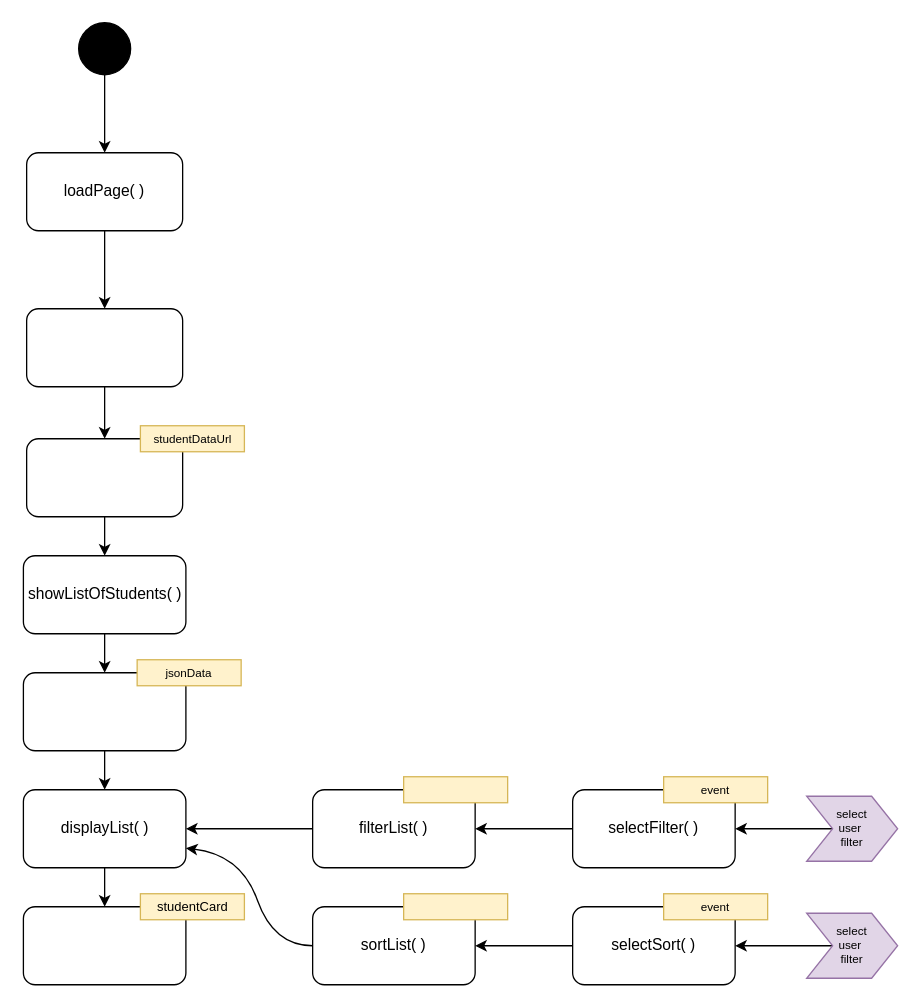
The diagram is 920 pixels wide and 1007 high, and some of its shapes have lost their labels. Each missing label, with the centre of its shape:
"async getData ( )" goes at point (104, 477).
"displayStudent( )" goes at point (104, 945).
"filterBy" goes at point (455, 789).
"loadJSON( )" goes at point (104, 347).
"prepareObjects( )" goes at point (104, 711).
"sortBy" goes at point (455, 906).
